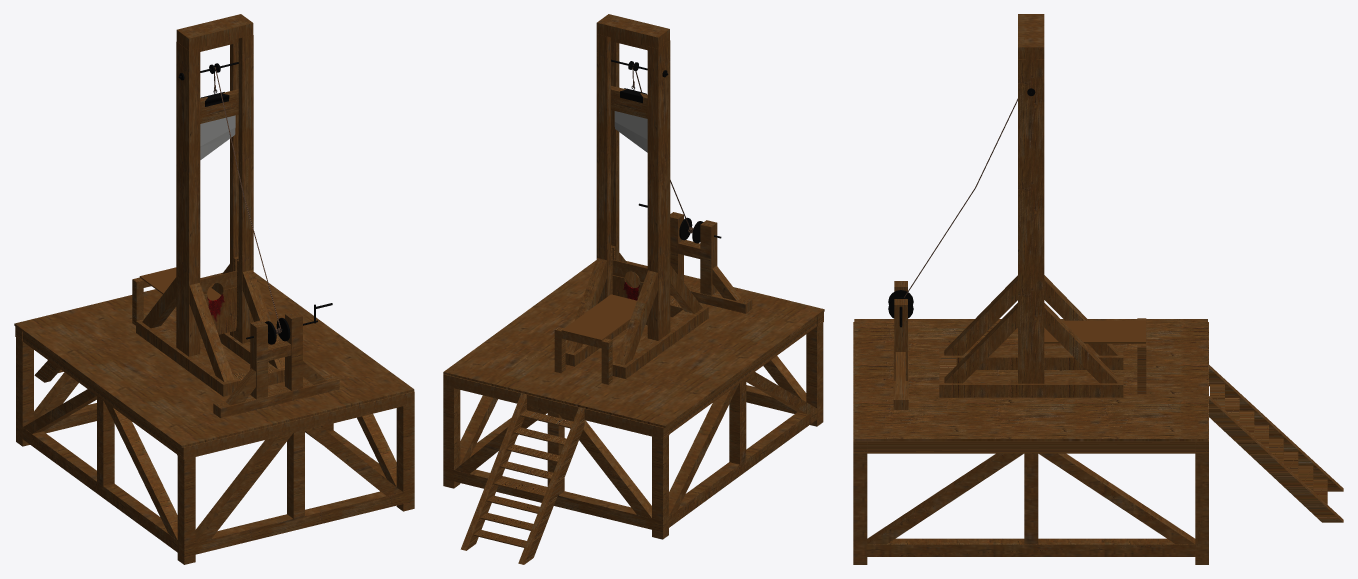
Rendered from guillotine.FBX.
3 views of the same model, side by side, from view 1: azimuth 30°, elevation 25°; view 2: azimuth 150°, elevation 25°; view 3: azimuth 270°, elevation 25° (orthographic). The views are drawn at different scales.
Visible parts, largest first — view 1: GUILMAD, GUILNAIL, GUILCROM, GUILROPE; view 2: GUILMAD, GUILNAIL, GUILCROM; view 3: GUILMAD.
Boxes of the visible parts, x1,y1,x2,y2 form: GUILMAD: [14, 14, 414, 564]; GUILNAIL: [178, 62, 332, 344]; GUILCROM: [200, 115, 235, 159]; GUILROPE: [214, 67, 281, 333]; GUILMAD: [443, 14, 824, 564]; GUILNAIL: [611, 59, 721, 243]; GUILCROM: [614, 111, 647, 152]; GUILMAD: [853, 14, 1343, 564].
Size of the model in its own units: 3398 by 6271 by 5867.
